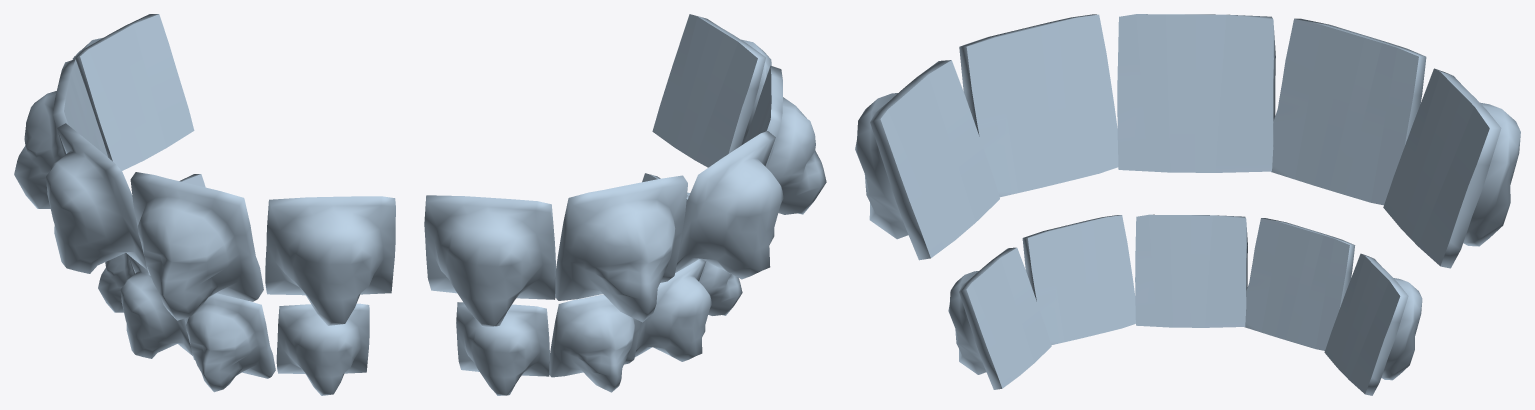
The model's file is Statues_Grp_03B_Lod0.fbx.
3 views of the same model, side by side, from view 1: azimuth 30°, elevation 25°; view 2: azimuth 150°, elevation 25°; view 3: azimuth 270°, elevation 25° (orthographic). The views are drawn at different scales.
Visible parts, largest first — view 1: Statues_Grp_03B_Lod0; view 2: Statues_Grp_03B_Lod0; view 3: Statues_Grp_03B_Lod0.
Boxes of the visible parts, x1,y1,x2,y2 form: Statues_Grp_03B_Lod0: (14,14,395,395); Statues_Grp_03B_Lod0: (424,14,826,395); Statues_Grp_03B_Lod0: (855,14,1520,395).
Bounding box in the file's own units: 122 × 109 × 238.
